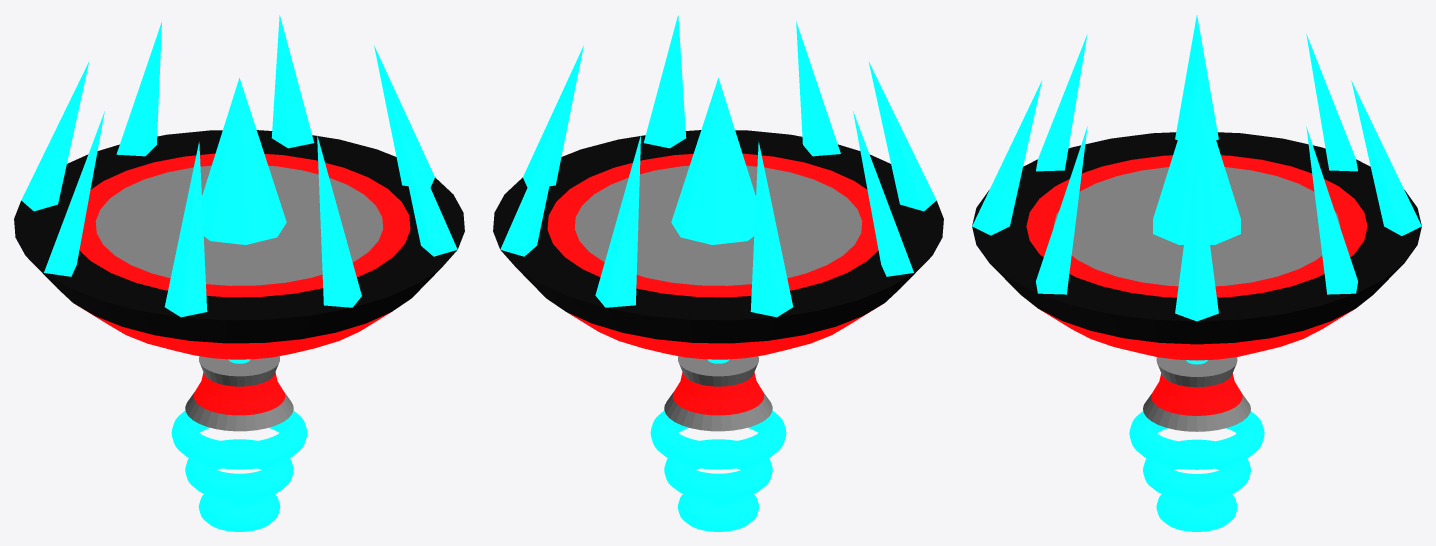
The model's file is LittleDipper.fbx.
3 views of the same model, side by side, from view 1: azimuth 30°, elevation 25°; view 2: azimuth 150°, elevation 25°; view 3: azimuth 270°, elevation 25° (orthographic).
Visible parts, largest first — view 1: Sphere.001, Circle; view 2: Sphere.001, Circle; view 3: Sphere.001, Circle.
Part boxes in pixels (box(x1,y1,x2,y2)): Sphere.001: box(14, 15, 464, 359); Circle: box(171, 356, 307, 531); Sphere.001: box(493, 15, 943, 359); Circle: box(650, 356, 786, 531); Sphere.001: box(972, 15, 1421, 360); Circle: box(1129, 357, 1264, 531).
Bounding box in the file's own units: 831 × 897 × 831.
